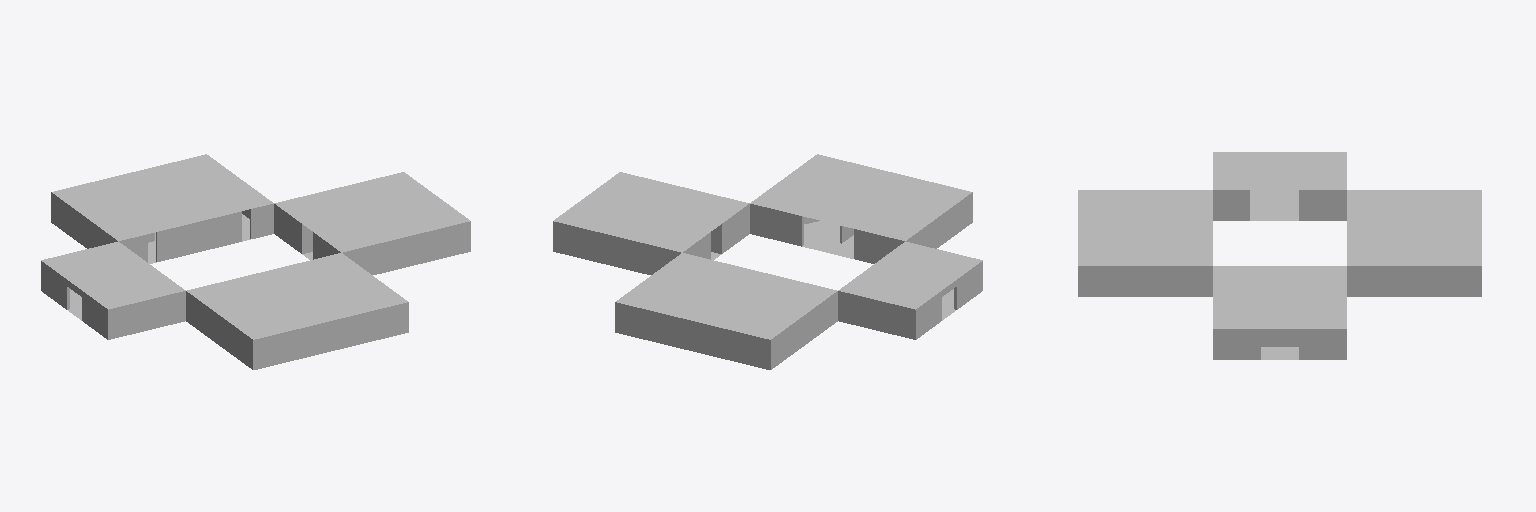
File: RoomRight2.obj
3 renders of one model, left to right at view 1: azimuth 30°, elevation 25°; view 2: azimuth 150°, elevation 25°; view 3: azimuth 270°, elevation 25°, orthographic.
Parts seen in each view (by area): view 1: Plane.002, Plane.001, Cube.003_Cube.002, Cube.001, Cube.004; view 2: Plane.001, Plane.002, Cube.003_Cube.002, Cube.001, Cube.004; view 3: Plane.002, Plane.001, Cube.003_Cube.002, Cube.001, Cube.004.
Boxes of the visible parts, <box> form: Plane.002: <box>186,253,408,369</box>; Plane.001: <box>51,154,273,263</box>; Cube.003_Cube.002: <box>41,241,185,339</box>; Cube.001: <box>327,172,470,270</box>; Cube.004: <box>274,191,392,274</box>; Plane.001: <box>615,253,837,369</box>; Plane.002: <box>750,154,972,263</box>; Cube.003_Cube.002: <box>838,241,982,339</box>; Cube.001: <box>553,172,696,270</box>; Cube.004: <box>631,191,749,274</box>; Plane.002: <box>1078,190,1212,296</box>; Plane.001: <box>1347,190,1481,296</box>; Cube.003_Cube.002: <box>1213,152,1346,220</box>; Cube.001: <box>1213,291,1346,359</box>; Cube.004: <box>1213,266,1346,290</box>.
Size of the model in its own units: 112 by 9 by 108.